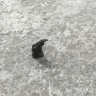Dog: (32, 39, 47, 59)
